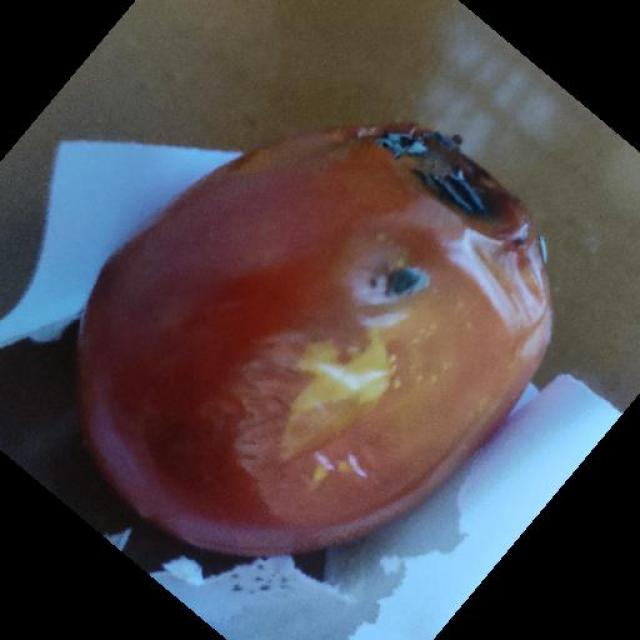Stale_tomato: (84, 111, 562, 518)
